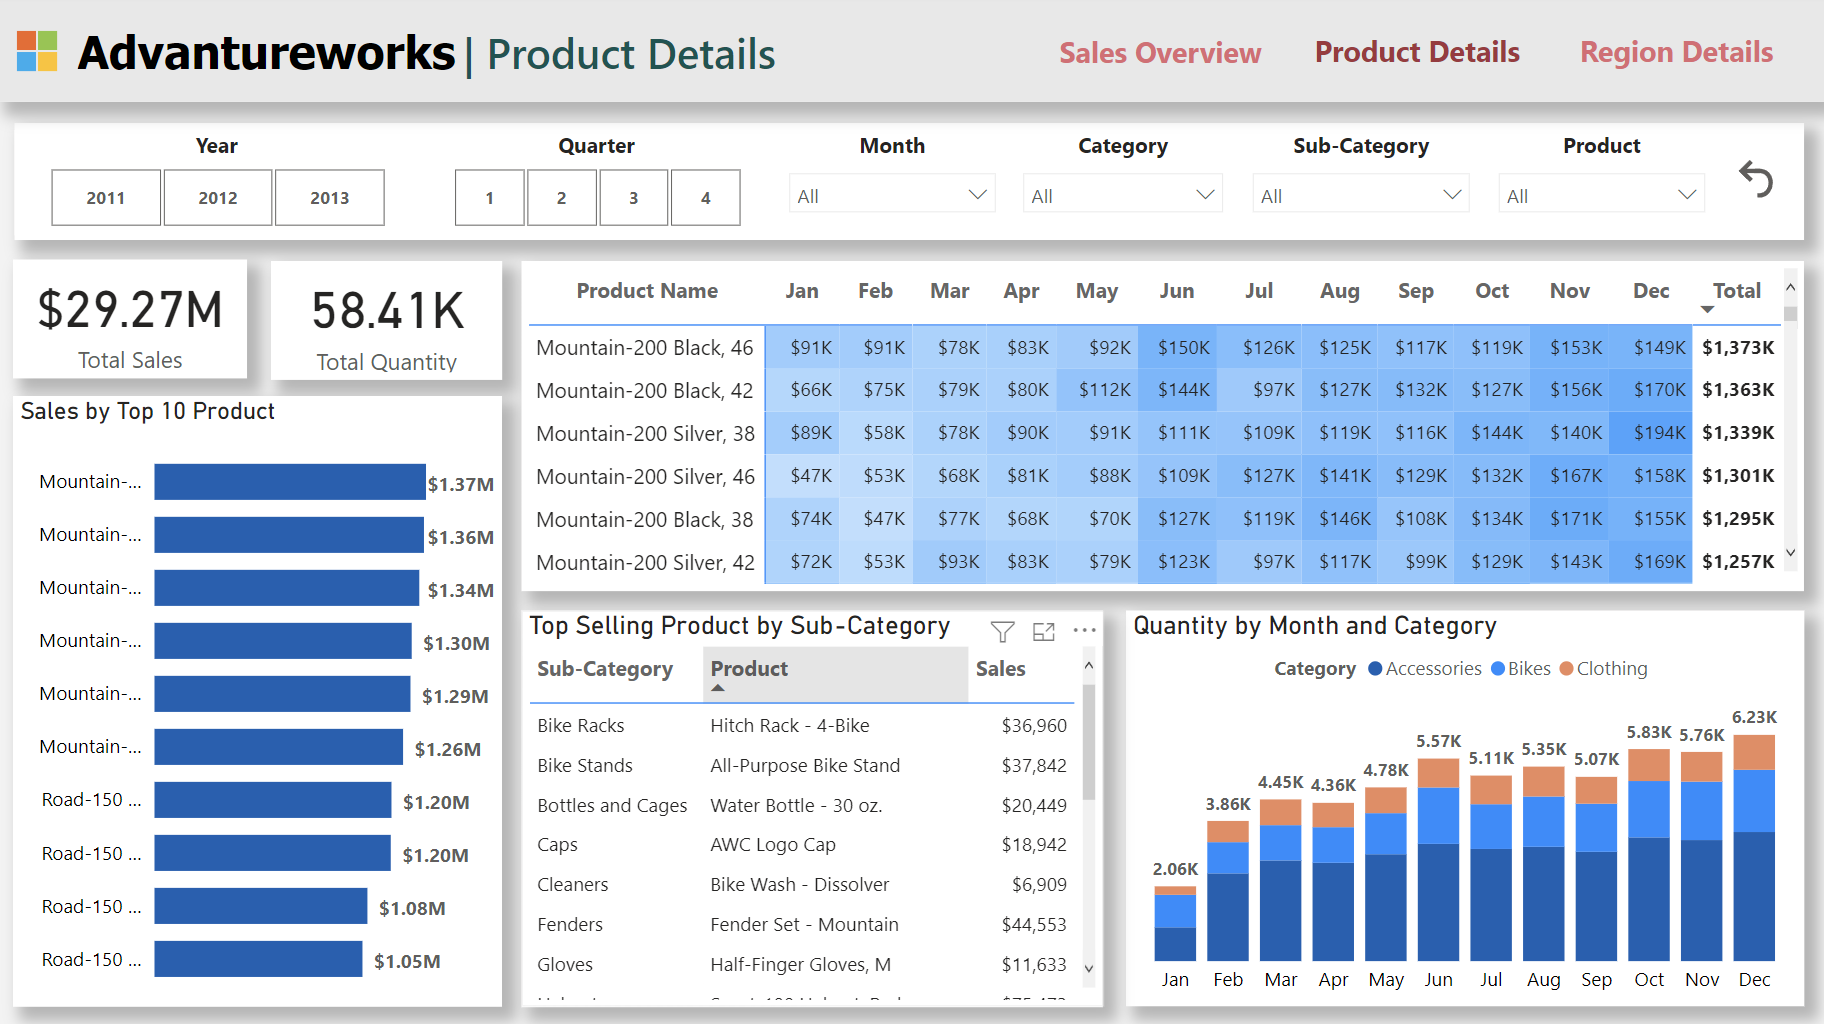

The dashboard page shown, as its layout file describes it:
{"tool":"powerbi","page":{"name":"Product Details","canvas":[1280,720],"ordinal":1},"visuals":[{"type":"shape","box":[11.6,86.2,1254,82],"z":0},{"type":"card","fields":{"Values":["FactInternetSales.InternetTotalSales"]},"box":[10.5,181.8,164,83],"z":1000},{"type":"card","fields":{"Values":["FactInternetSales.InternetTotalUnits"]},"box":[191.3,182.9,161.9,83],"z":2000},{"type":"slicer","title":"Quarter","fields":{"Values":["DimDate.CalendarQuarter"]},"box":[294.4,91.1,250,73.3],"z":3000},{"type":"slicer","title":"Year","fields":{"Values":["DimDate.CalendarYear"]},"box":[11.1,91.1,283.3,73.3],"z":4000},{"type":"clusteredBarChart","title":"Sales by Top 10 Product","fields":{"Y":["FactInternetSales.InternetTotalSales"],"Category":["DimProduct.EnglishProductName"]},"box":[10.5,277.5,342.7,427.8],"z":5000},{"type":"slicer","title":"Sub-Category","fields":{"Values":["DimProductSubcategory.EnglishProductSubcategoryName"]},"box":[868.9,91.1,172.2,74.4],"z":6000},{"type":"slicer","title":"Month","fields":{"Values":["DimDate.EnglishMonthName"]},"box":[544.4,91.1,164.4,74.4],"z":7000},{"type":"slicer","title":"Category","fields":{"Values":["DimProductCategory.EnglishProductCategoryName"]},"box":[708.9,91.1,160,74.4],"z":8000},{"type":"slicer","title":"Product","fields":{"Values":["DimProduct.Category.Product"]},"box":[1041.1,91.1,164.4,74.4],"z":9000},{"type":"actionButton","box":[1214,105.1,35.7,39.9],"z":10000},{"type":"shape","box":[0,0,1280,71.1],"z":11000},{"type":"image","box":[0,8.4,54.7,54.7],"z":12000},{"type":"shape","box":[55.7,0,270.1,71.5],"z":13000},{"type":"shape","box":[325.8,0,252.3,71.5],"z":14000},{"type":"actionButton","box":[728.4,0,172.4,71.5],"z":15000},{"type":"actionButton","box":[900.7,0,187.5,71.1],"z":16000},{"type":"actionButton","box":[1088.2,0,176.7,71.1],"z":17000},{"type":"pivotTable","fields":{"Rows":["DimProduct.EnglishProductName"],"Columns":["DimDate.Month_Short"],"Values":["FactInternetSales.InternetTotalSales"]},"box":[366.8,182.9,898.7,231.2],"z":18000},{"type":"columnChart","title":"Quantity by Month and Category","fields":{"Category":["DimDate.Month_Short"],"Series":["DimProductCategory.EnglishProductCategoryName"],"Y":["FactInternetSales.InternetTotalUnits"]},"box":[790.4,427.8,475.1,277.5],"z":19000},{"type":"tableEx","title":"Top Selling Product by Sub-Category","fields":{"Values":["DimProductSubcategory.EnglishProductSubcategoryName","DimProduct.EnglishProductName","DimProduct.BestSellingProduct"]},"box":[367,427.7,407.3,278],"z":20000}]}

Visuals, with their boxes in screenshot pixels (x1, y1, x2, y2), scaled from the page's 1280x720 canvas onto the 1824x1024 screenshot:
shape: x1=17 y1=123 x2=1803 y2=239
card - FactInternetSales.InternetTotalSales: x1=15 y1=259 x2=249 y2=377
card - FactInternetSales.InternetTotalUnits: x1=273 y1=260 x2=503 y2=378
"Quarter" slicer: x1=420 y1=130 x2=776 y2=234
"Year" slicer: x1=16 y1=130 x2=420 y2=234
"Sales by Top 10 Product" clusteredBarChart: x1=15 y1=395 x2=503 y2=1003
"Sub-Category" slicer: x1=1238 y1=130 x2=1484 y2=235
"Month" slicer: x1=776 y1=130 x2=1010 y2=235
"Category" slicer: x1=1010 y1=130 x2=1238 y2=235
"Product" slicer: x1=1484 y1=130 x2=1718 y2=235
actionButton: x1=1730 y1=149 x2=1781 y2=206
shape: x1=0 y1=0 x2=1823 y2=101
image: x1=0 y1=12 x2=78 y2=90
shape: x1=79 y1=0 x2=464 y2=102
shape: x1=464 y1=0 x2=824 y2=102
actionButton: x1=1038 y1=0 x2=1284 y2=102
actionButton: x1=1283 y1=0 x2=1551 y2=101
actionButton: x1=1551 y1=0 x2=1802 y2=101
pivotTable - DimProduct.EnglishProductName x DimDate.Month_Short: x1=523 y1=260 x2=1803 y2=589
"Quantity by Month and Category" columnChart: x1=1126 y1=608 x2=1803 y2=1003
"Top Selling Product by Sub-Category" tableEx: x1=523 y1=608 x2=1103 y2=1004
